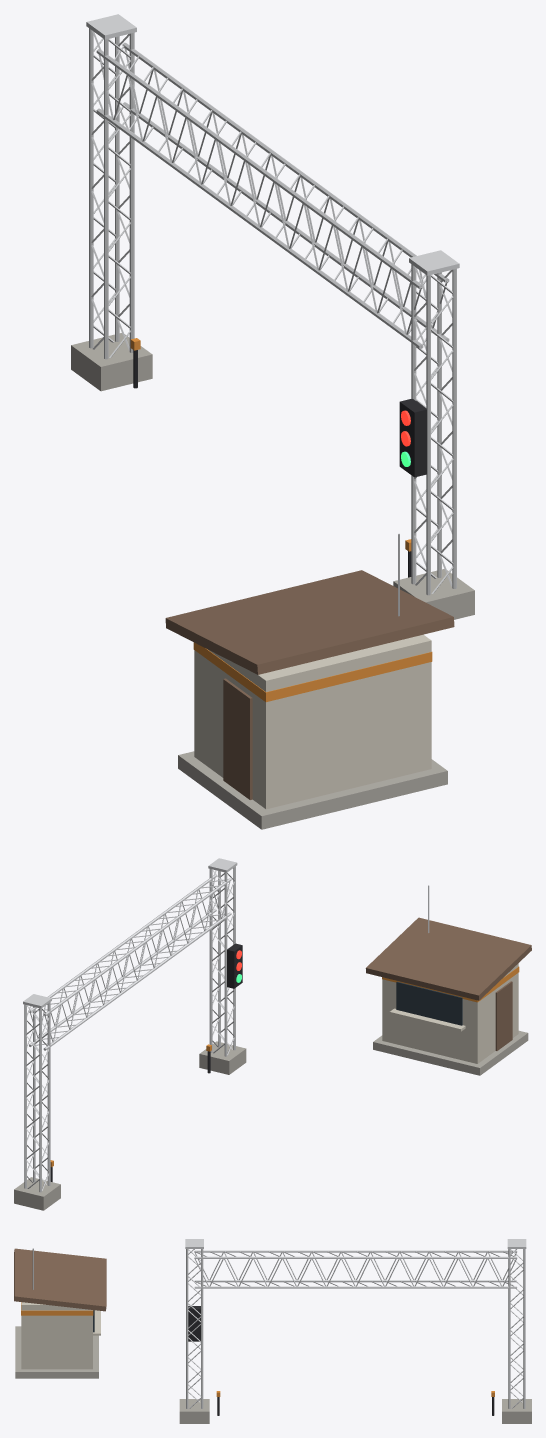
The model's file is hill-start.glb.
3 renders of one model, top to bottom at view 1: azimuth 30°, elevation 25°; view 2: azimuth 150°, elevation 25°; view 3: azimuth 270°, elevation 25°, orthographic. The views are drawn at different scales.
Visible parts, largest first — view 1: StartGantry; view 2: StartGantry; view 3: StartGantry.
Boxes of the visible parts, x1=… form: StartGantry: x1=71, y1=14, x2=474, y2=829; StartGantry: x1=14, y1=858, x2=531, y2=1210; StartGantry: x1=14, y1=1239, x2=531, y2=1423.
Bounding box in the file's own units: 7.4 × 6.51 × 17.35.
